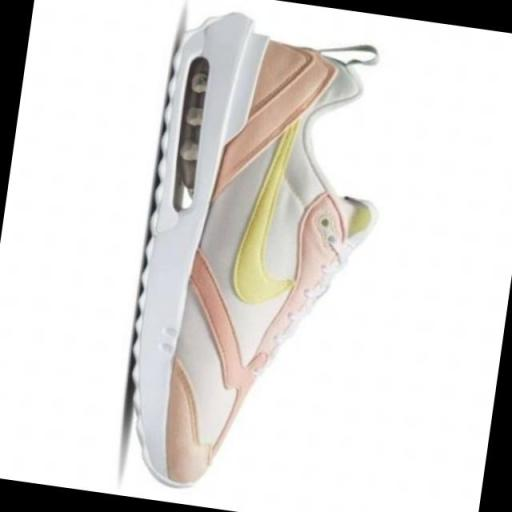Nike: (224, 86, 325, 319)
